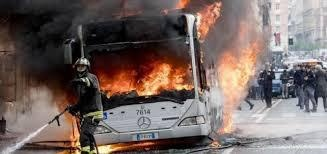fire: (216, 16, 265, 131), (177, 0, 221, 36)
